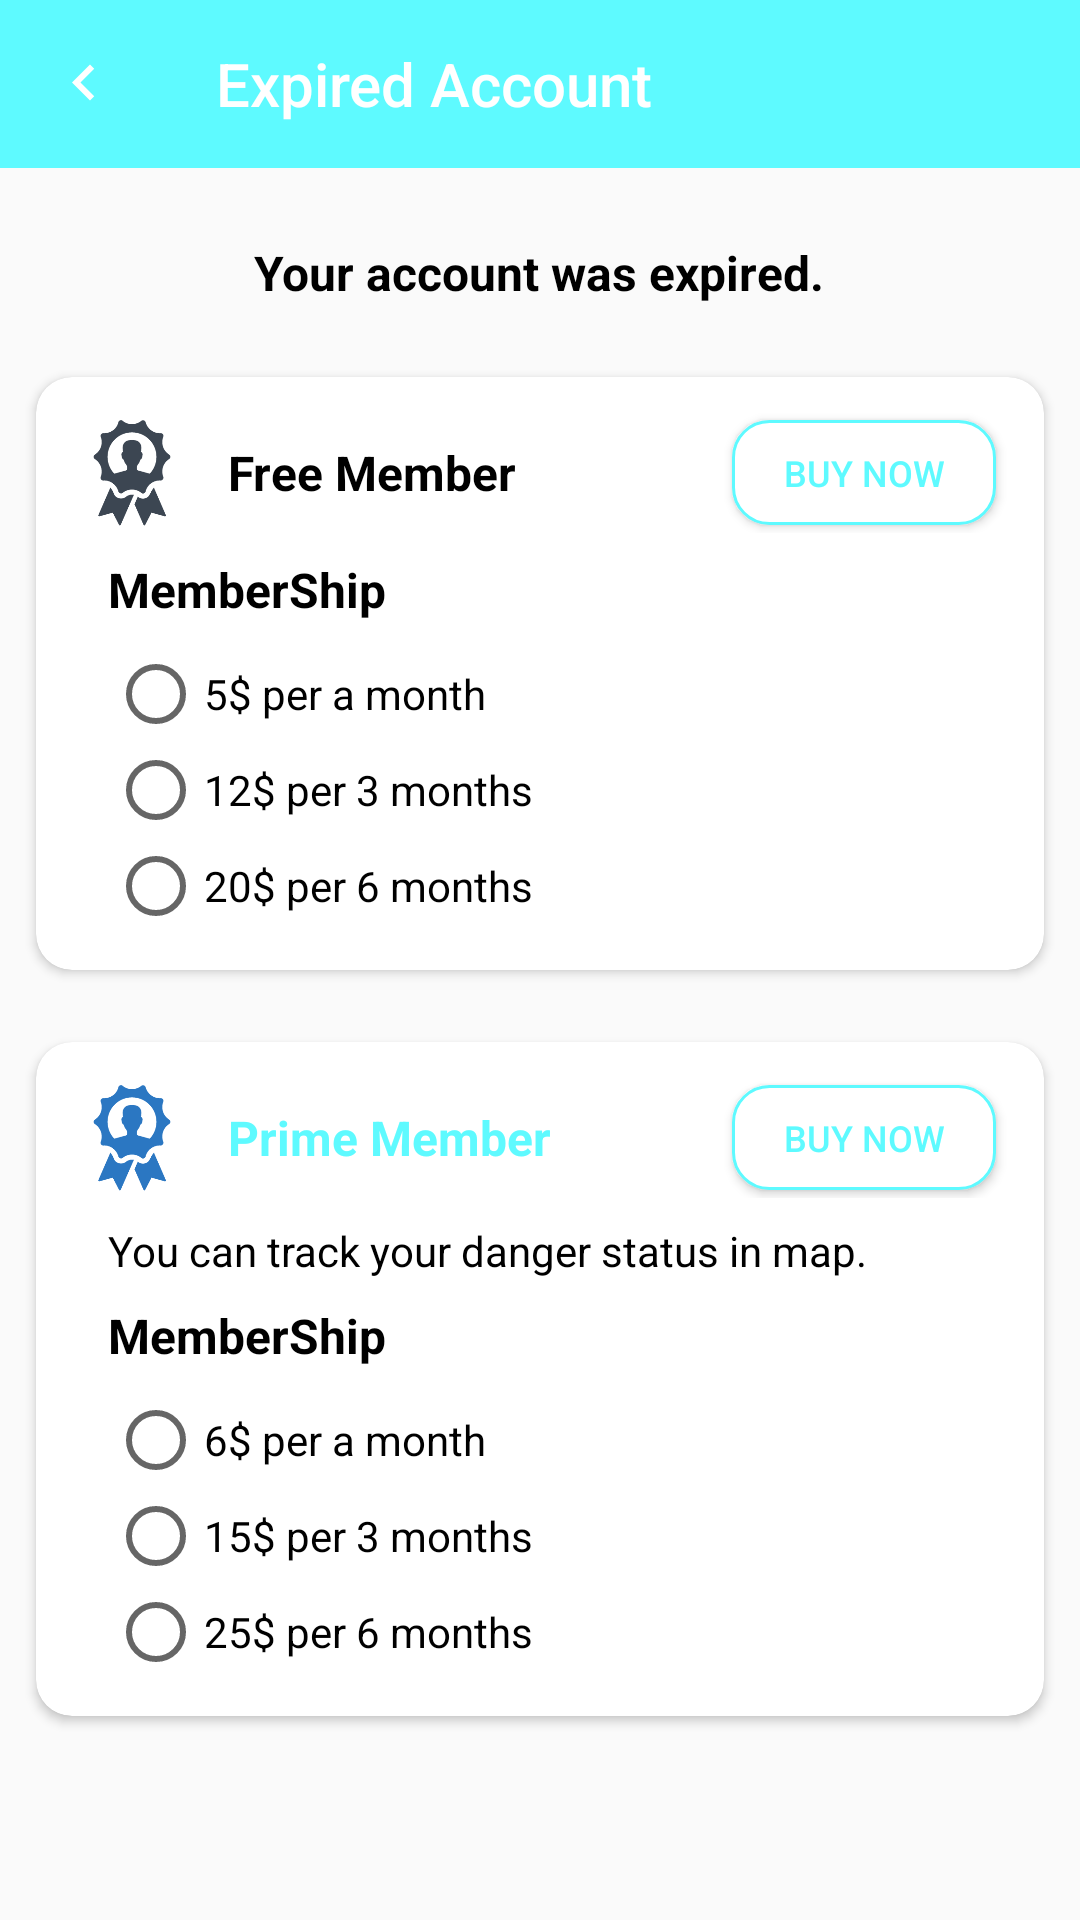

Screen size 1080x1920. Icon name, then its box in pixels as (x1, y1, x2, y2):
free user: (93, 420, 171, 526)
prime user: (93, 1085, 171, 1191)
